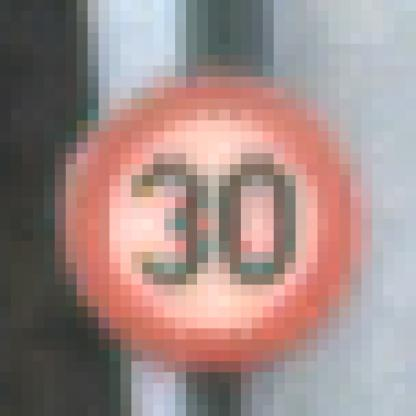Speed Limit 30: (75, 85, 350, 364)
